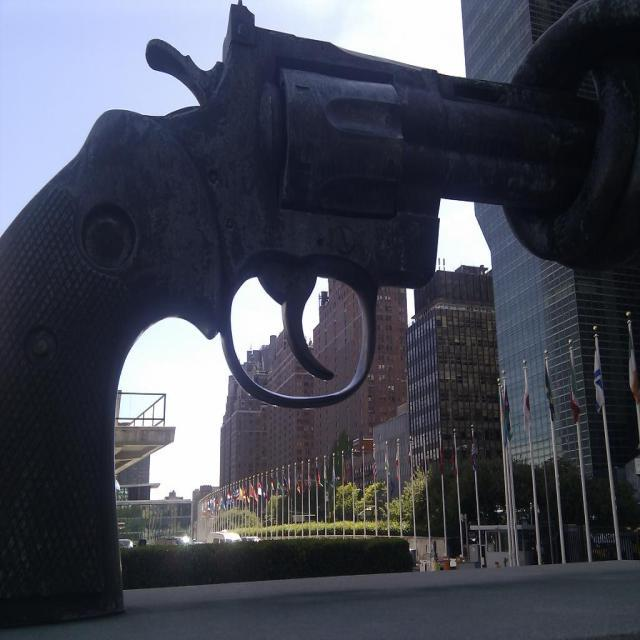Gun: (0, 5, 598, 624)
